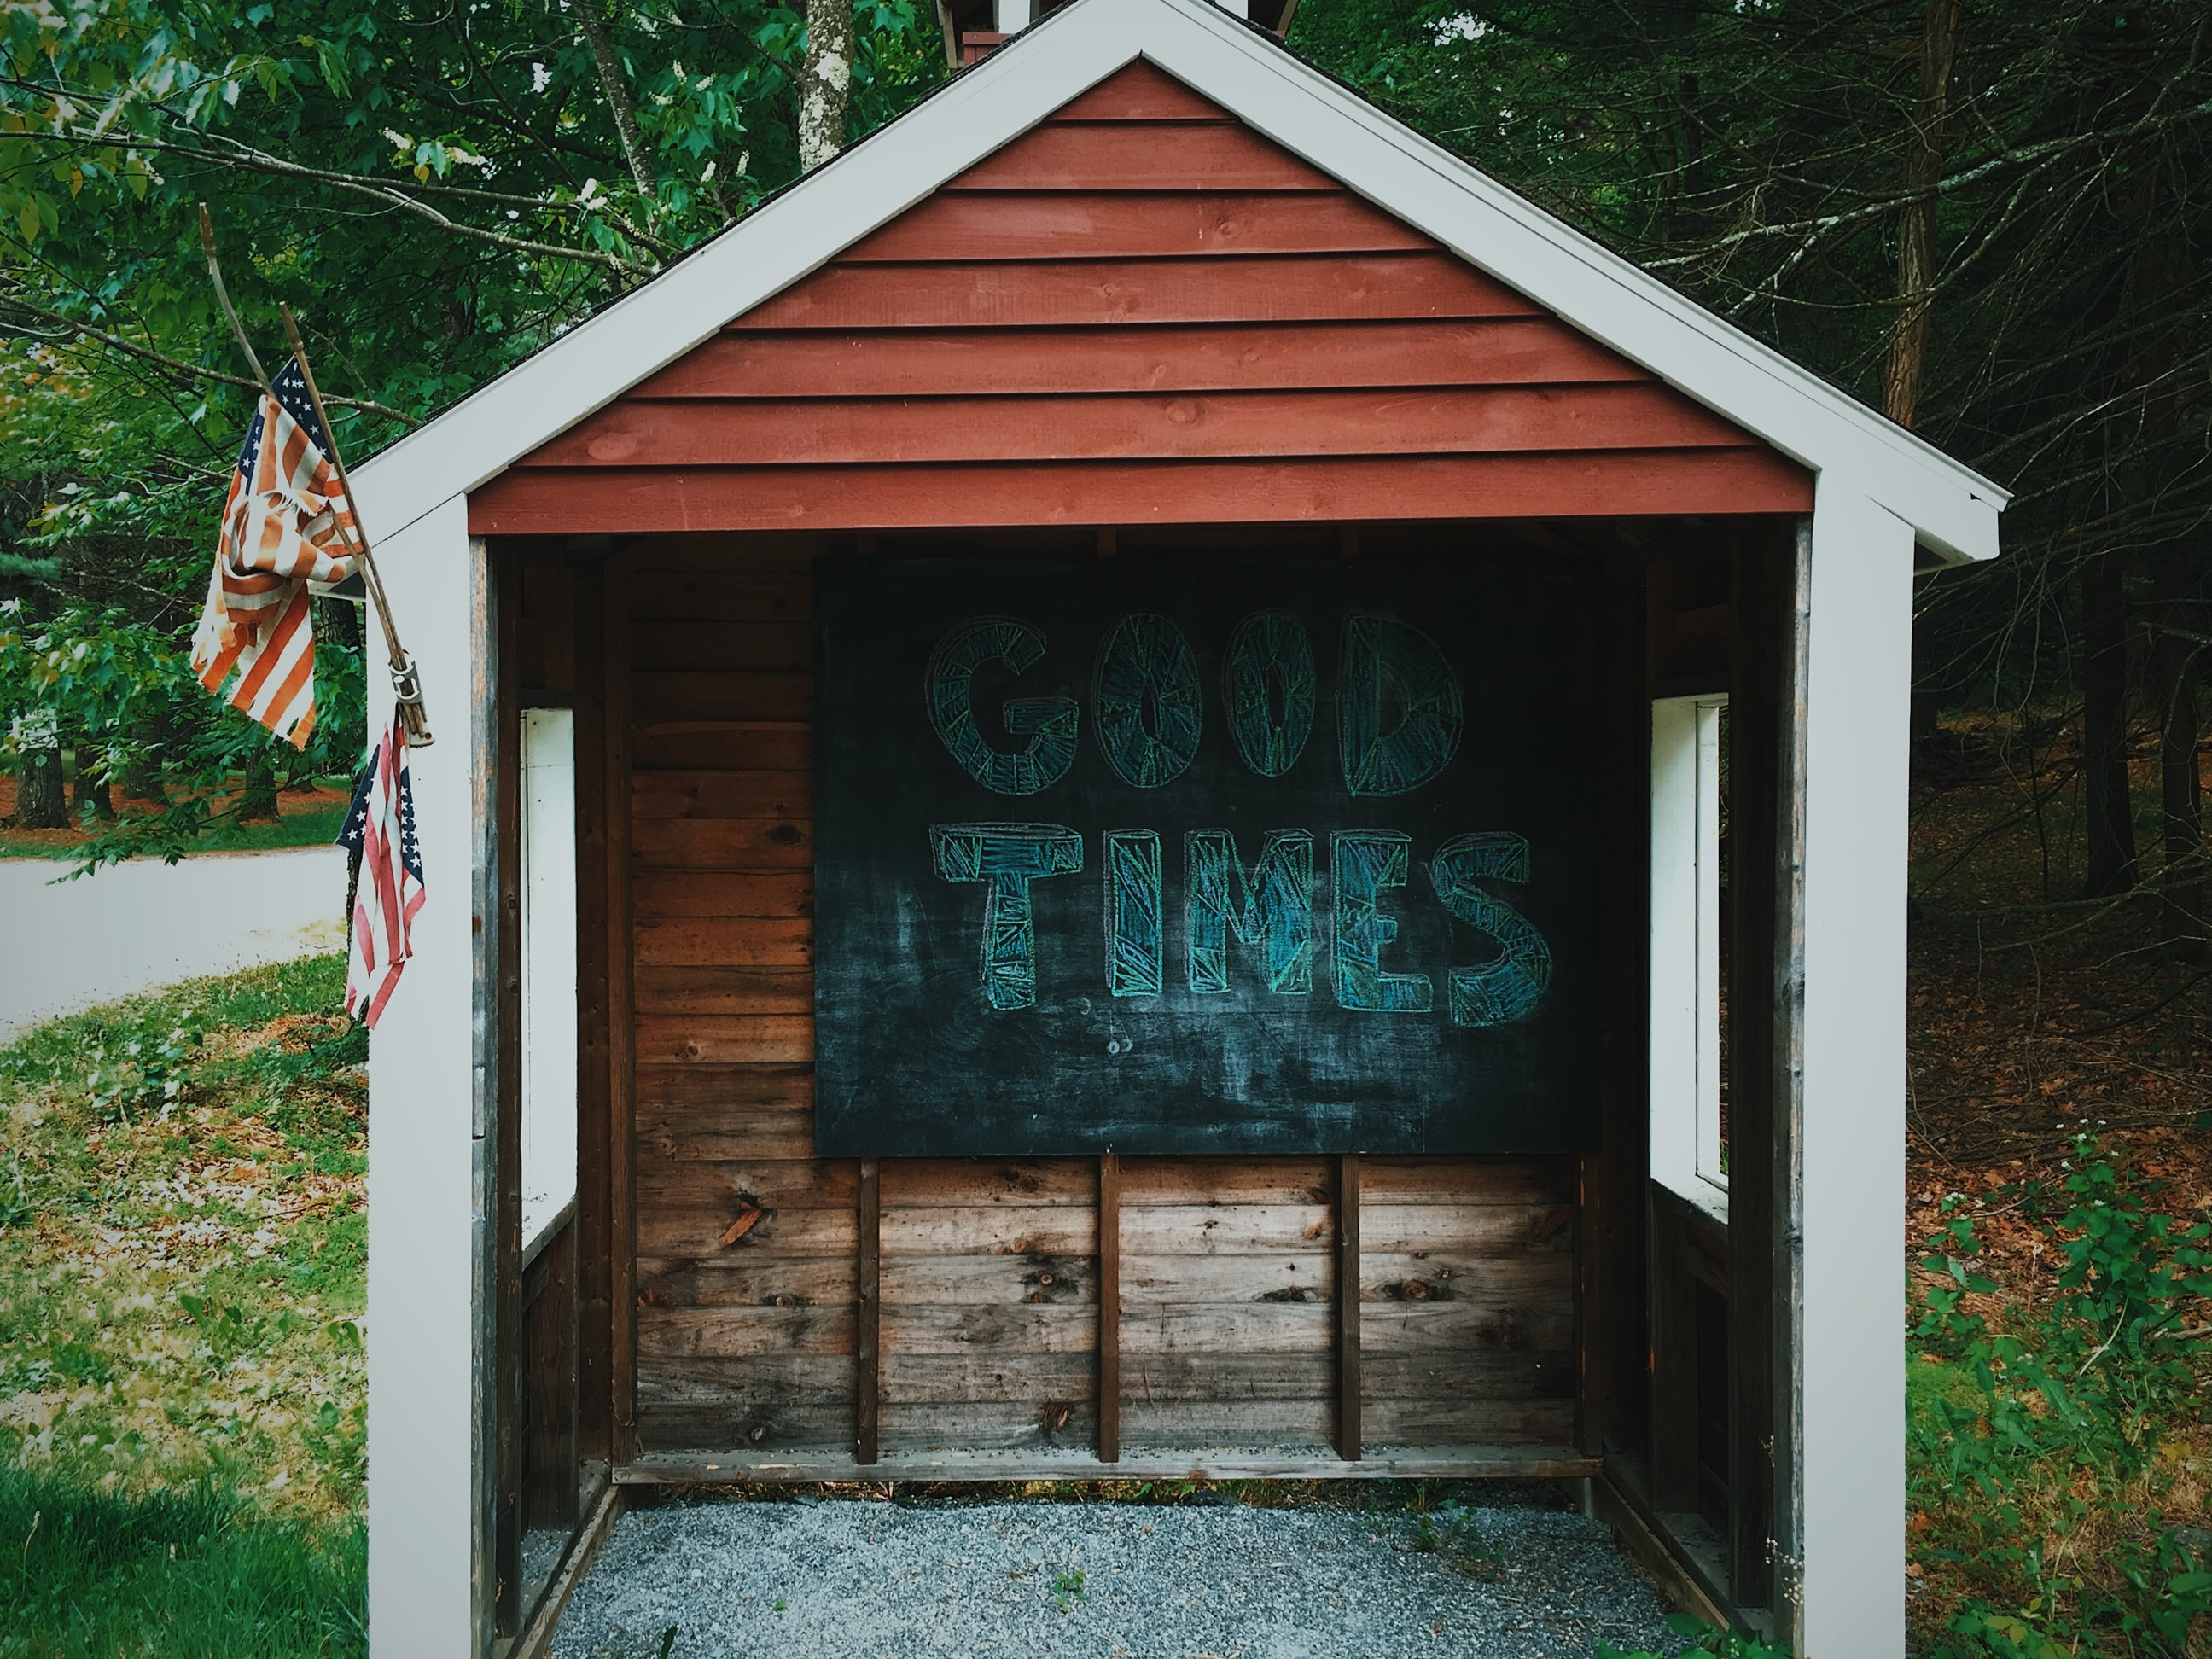Flag: (199, 352, 338, 749), (336, 709, 421, 1023)
